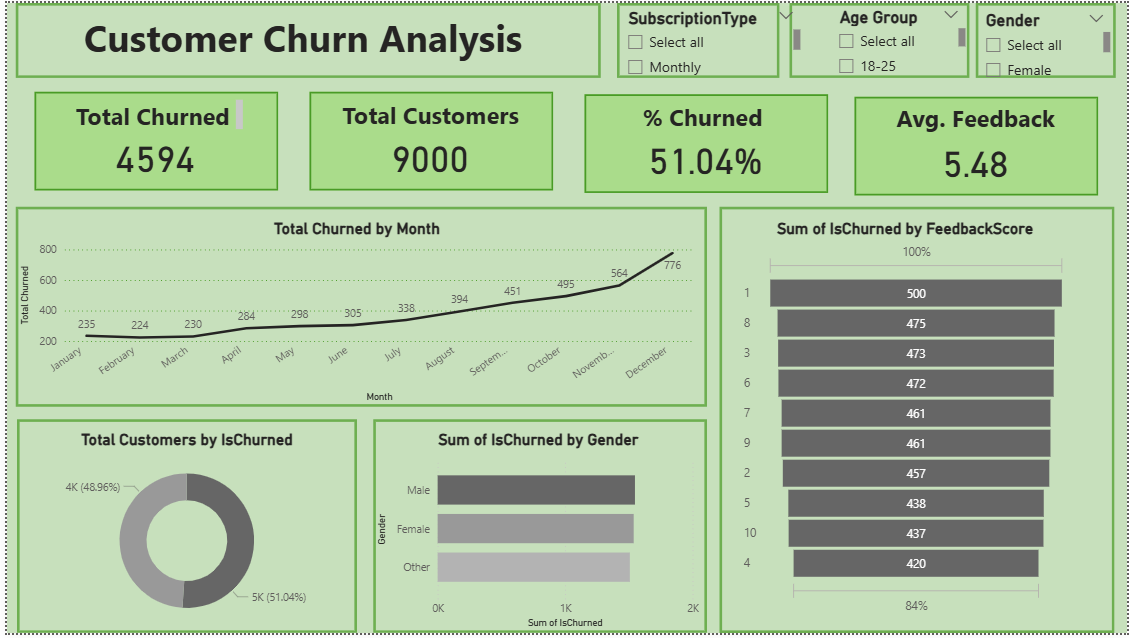

The page's visual inventory and layout, read from the dashboard file:
{"tool":"powerbi","page":{"name":"Page 1","canvas":[1280,720],"ordinal":0},"visuals":[{"type":"shape","box":[10,0,668.6,85.7],"z":0},{"type":"textbox","box":[82.9,4.3,537.1,70],"z":1000},{"type":"shape","box":[893.9,0,205.7,85.7],"z":2000},{"type":"shape","box":[696.7,0,185.7,85.7],"z":3000},{"type":"shape","box":[1107.1,0,160,85.7],"z":7000},{"type":"slicer","fields":{"Values":["CustomerSubscriptions.Gender"]},"box":[1105.7,4.3,160,85.7],"z":7500},{"type":"slicer","fields":{"Values":["CustomerSubscriptions.Age Group"]},"box":[938.1,0,161.4,90],"z":7750},{"type":"slicer","fields":{"Values":["CustomerSubscriptions.SubscriptionType"]},"box":[696.7,1.4,214.3,85.7],"z":7875},{"type":"shape","box":[11.4,475.7,388.6,244.3],"z":8000},{"type":"donutChart","fields":{"Category":["CustomerSubscriptions.IsChurned"],"Y":["Measures Table.Total Customers"]},"box":[11.4,488.6,388.6,231.4],"z":9000},{"type":"shape","box":[10,232.9,790,228.6],"z":10000},{"type":"shape","box":[418.6,475.7,381.4,244.3],"z":11000},{"type":"lineChart","fields":{"Y":["Measures Table.Total Churned"],"Category":["CustomerSubscriptions.LastLoginDate.Variation.Date Hierarchy.Month"]},"box":[10,247.1,780,214.3],"z":12000},{"type":"shape","box":[814.3,232.9,451.4,487.1],"z":13000},{"type":"shape","box":[31.4,101.4,278.6,112.9],"z":14000},{"type":"card","fields":{"Values":["Measures Table.Total Churned"]},"box":[60,137.1,218.6,74.3],"z":15000},{"type":"textbox","box":[67.1,105.7,207.1,44.3],"z":16000},{"type":"shape","box":[345.4,101.1,278.6,112.9],"z":17000},{"type":"card","fields":{"Values":["Measures Table.Total Customers"]},"box":[374,136.9,218.6,74.3],"z":18000},{"type":"textbox","box":[361.4,104.3,245.7,48.6],"z":19000},{"type":"shape","box":[659.7,104.6,278.6,112.9],"z":20000},{"type":"card","fields":{"Values":["Measures Table.Churn %"]},"box":[688.3,140.3,218.6,74.3],"z":21000},{"type":"textbox","box":[688.6,107.1,212.9,57.1],"z":22000},{"type":"shape","box":[968.3,106.9,278.6,112.9],"z":23000},{"type":"card","fields":{"Values":["Measures Table.Avg Feedback"]},"box":[996.9,142.6,218.6,74.3],"z":24000},{"type":"textbox","box":[981.4,90,251.4,67.1],"z":25000},{"type":"funnel","fields":{"Category":["CustomerSubscriptions.FeedbackScore"],"Y":["Sum(CustomerSubscriptions.IsChurned)"]},"box":[837.1,247.1,378.6,457.1],"z":25001},{"type":"barChart","fields":{"Category":["CustomerSubscriptions.Gender"],"Y":["Sum(CustomerSubscriptions.IsChurned)"]},"box":[418.6,488.6,377.1,231.4],"z":25002}]}

Visuals, with their boxes in screenshot pixels (x1, y1, x2, y2), scaled from the page's 1280x720 canvas onto the 1129x638 screenshot:
shape: select_region(9, 0, 599, 76)
textbox: select_region(73, 4, 547, 66)
shape: select_region(788, 0, 970, 76)
shape: select_region(615, 0, 778, 76)
shape: select_region(976, 0, 1118, 76)
slicer - CustomerSubscriptions.Gender: select_region(975, 4, 1116, 80)
slicer - CustomerSubscriptions.Age Group: select_region(827, 0, 970, 80)
slicer - CustomerSubscriptions.SubscriptionType: select_region(615, 1, 804, 77)
shape: select_region(10, 422, 353, 637)
donutChart - CustomerSubscriptions.IsChurned x Measures Table.Total Customers: select_region(10, 433, 353, 637)
shape: select_region(9, 206, 706, 409)
shape: select_region(369, 422, 706, 637)
lineChart - Measures Table.Total Churned x CustomerSubscriptions.LastLoginDate.Variation.Date Hierarchy.Month: select_region(9, 219, 697, 409)
shape: select_region(718, 206, 1116, 637)
shape: select_region(28, 90, 273, 190)
card - Measures Table.Total Churned: select_region(53, 121, 246, 187)
textbox: select_region(59, 94, 242, 133)
shape: select_region(305, 90, 550, 190)
card - Measures Table.Total Customers: select_region(330, 121, 523, 187)
textbox: select_region(319, 92, 535, 135)
shape: select_region(582, 93, 828, 193)
card - Measures Table.Churn %: select_region(607, 124, 800, 190)
textbox: select_region(607, 95, 795, 145)
shape: select_region(854, 95, 1100, 195)
card - Measures Table.Avg Feedback: select_region(879, 126, 1072, 192)
textbox: select_region(866, 80, 1087, 139)
funnel - CustomerSubscriptions.FeedbackScore x Sum(CustomerSubscriptions.IsChurned): select_region(738, 219, 1072, 624)
barChart - CustomerSubscriptions.Gender x Sum(CustomerSubscriptions.IsChurned): select_region(369, 433, 702, 637)
